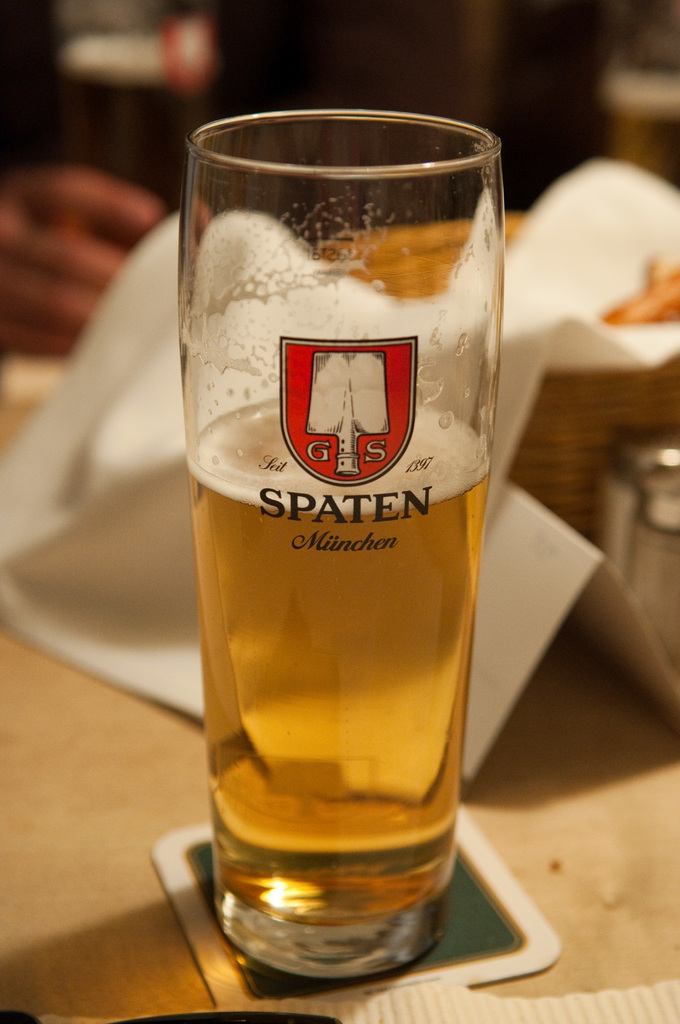Beer: (190, 406, 487, 927)
